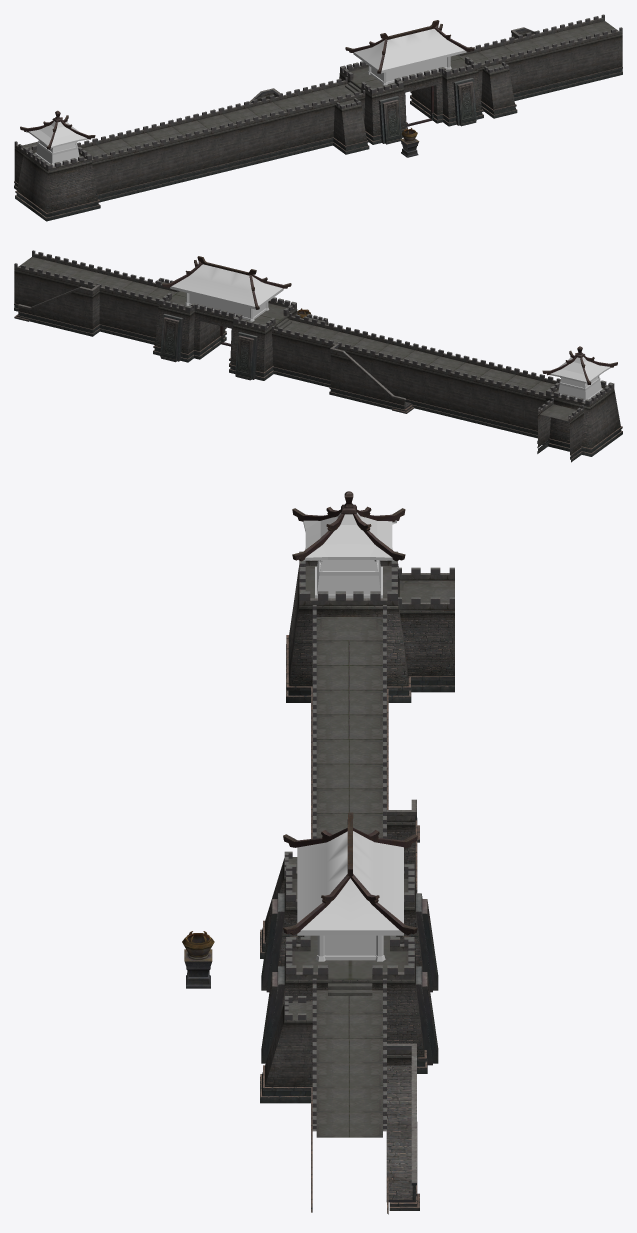
File: s7_cityelement.FBX
The picture shows the model from 3 angles, top to bottom: view 1: azimuth 30°, elevation 25°; view 2: azimuth 150°, elevation 25°; view 3: azimuth 270°, elevation 25°; orthographic projection. The views are drawn at different scales.
Parts seen in each view (by area): view 1: Object02cvcv, s7_city_wallleft, s7_city_walllright, s7_city_wallB, s7_city_corner, s7_city_wallT, s7_cityroof, s7_city_wallT2, Objcvcvcvect02, s7_cityelement_huopeng; view 2: Object02cvcv, s7_city_walllright, s7_city_wallleft, s7_city_wallB, s7_city_corner, s7_cityroof, s7_city_wallT, s7_city_wallT2, Objcvcvcvect02; view 3: Object02cvcv, s7_city_corner, s7_city_walllright, s7_cityroof, s7_city_wallleft, s7_city_wallT2, s7_city_wallB, Objcvcvcvect02, s7_cityelement_huopeng.
Part boxes in pixels (x1,y1,x2,y2): Object02cvcv: (339, 20, 483, 144); s7_city_wallleft: (196, 88, 315, 174); s7_city_walllright: (503, 14, 622, 99); s7_city_wallB: (95, 114, 214, 198); s7_city_corner: (14, 110, 113, 221); s7_city_wallT: (297, 77, 369, 154); s7_cityroof: (353, 29, 466, 85); s7_city_wallT2: (457, 39, 521, 118); Objcvcvcvect02: (26, 121, 88, 166); s7_cityelement_huopeng: (400, 128, 419, 157); Object02cvcv: (153, 256, 297, 380); s7_city_walllright: (14, 250, 133, 336); s7_city_wallleft: (321, 325, 440, 413); s7_city_wallB: (422, 350, 541, 434); s7_city_corner: (523, 346, 622, 462); s7_cityroof: (170, 264, 283, 321); s7_city_wallT: (272, 313, 339, 385); s7_city_wallT2: (115, 275, 178, 344); Objcvcvcvect02: (549, 357, 610, 401); Object02cvcv: (261, 812, 438, 1073); s7_city_corner: (286, 491, 454, 707); s7_city_walllright: (311, 1027, 419, 1214); s7_cityroof: (297, 831, 403, 961); s7_city_wallleft: (311, 727, 419, 892); s7_city_wallT2: (260, 978, 386, 1104); s7_city_wallB: (311, 629, 388, 806); Objcvcvcvect02: (303, 512, 396, 598); s7_cityelement_huopeng: (182, 931, 214, 988).
Bounding box in the file's own units: 16027 × 2438 × 3252.
